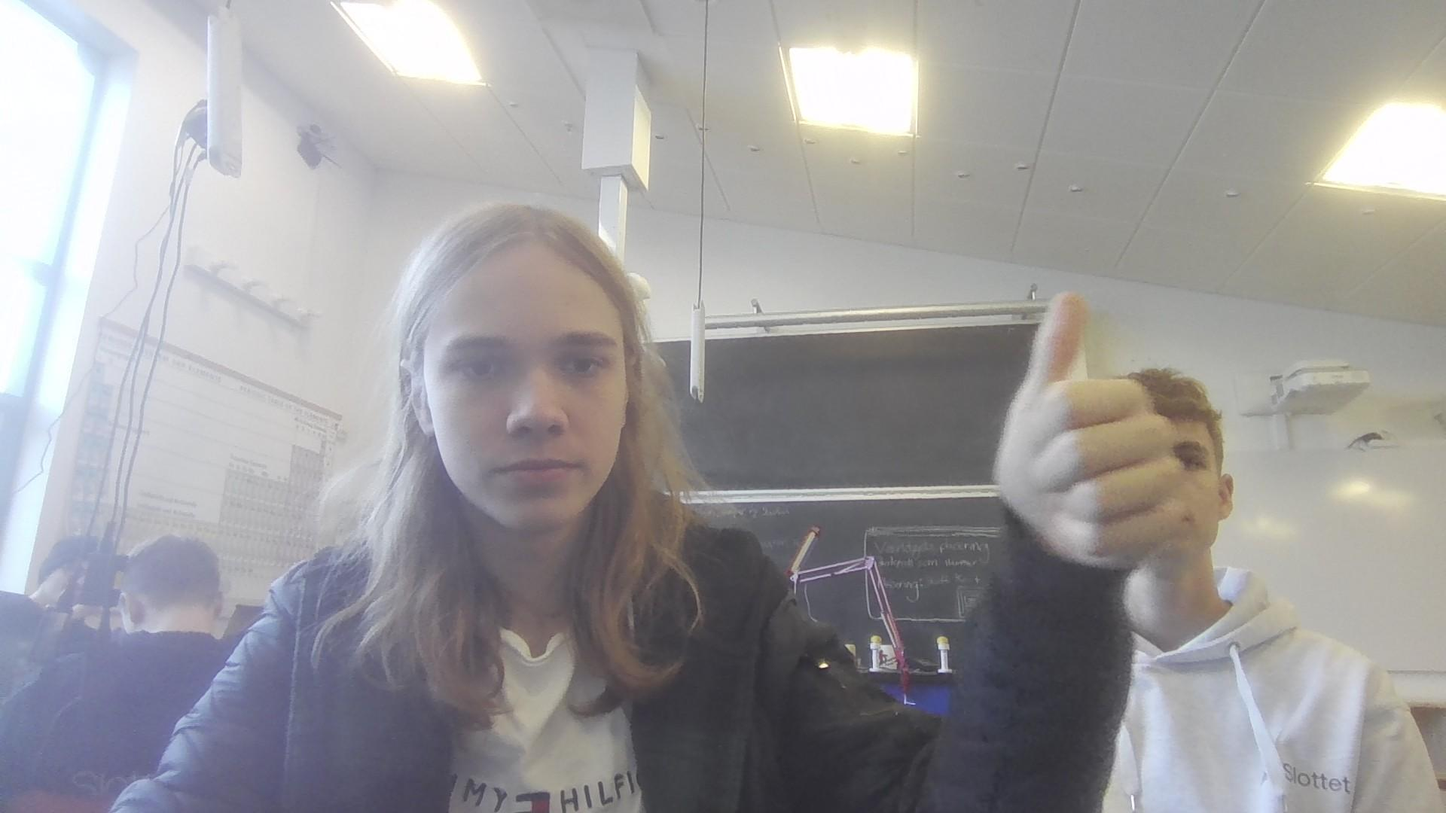thumbs up: (965, 270, 1190, 591)
